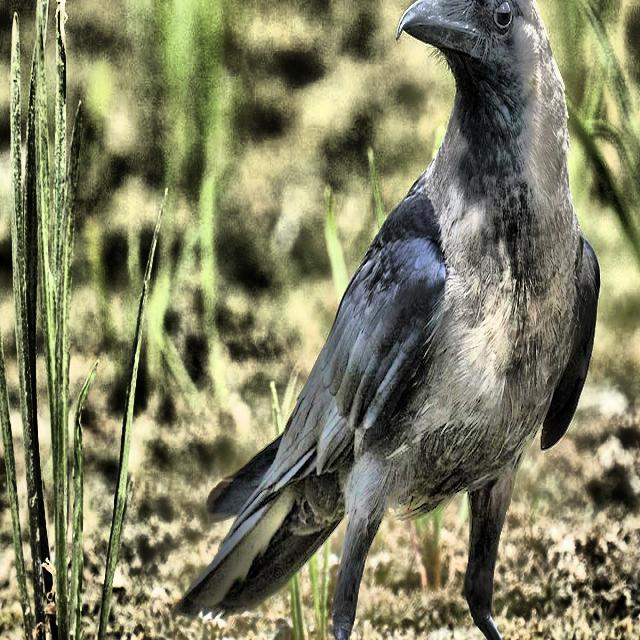crow: (177, 0, 612, 640)
